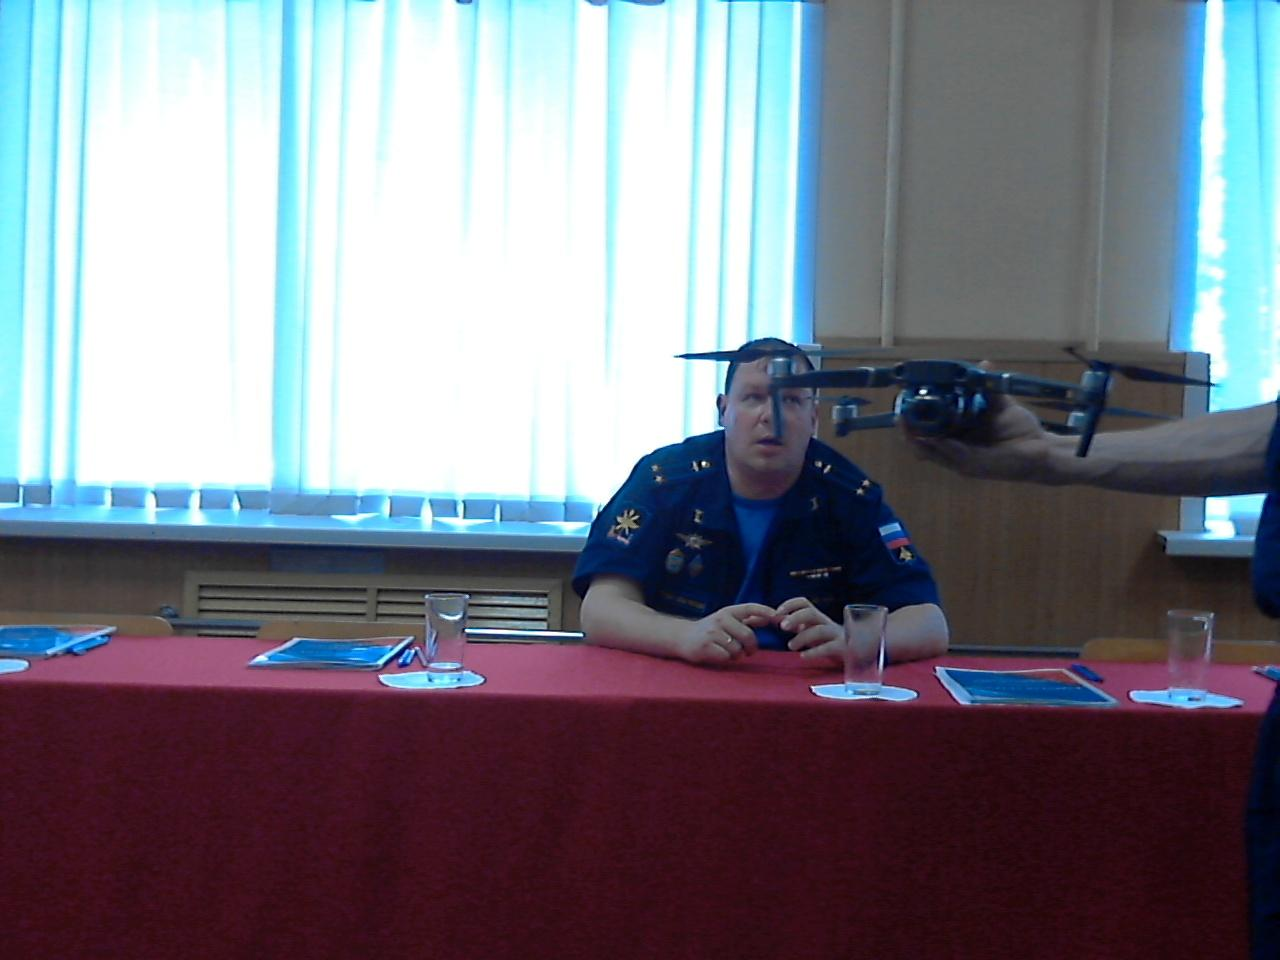drone: (706, 301, 1181, 476)
